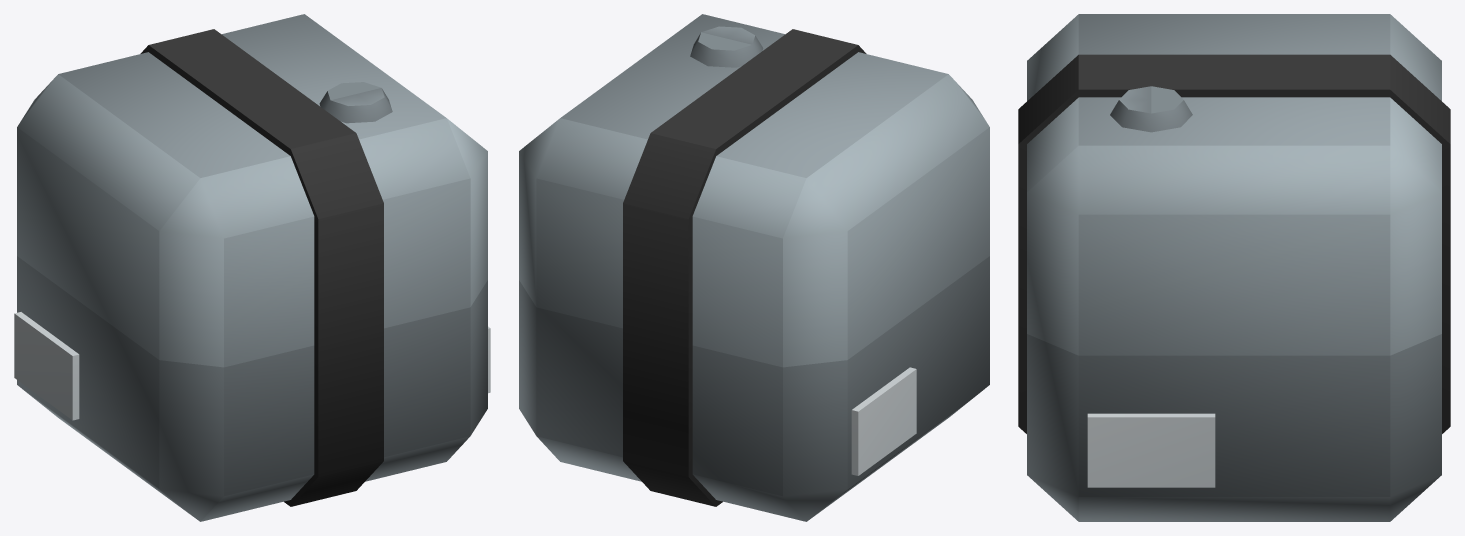
File: cargo_B_packed.obj
3 renders of one model, left to right at view 1: azimuth 30°, elevation 25°; view 2: azimuth 150°, elevation 25°; view 3: azimuth 270°, elevation 25°, orthographic. The views are drawn at different scales.
Size of the model in its own units: 0.5205 by 0.5303 by 0.5205.
1 material, 1 textured.
